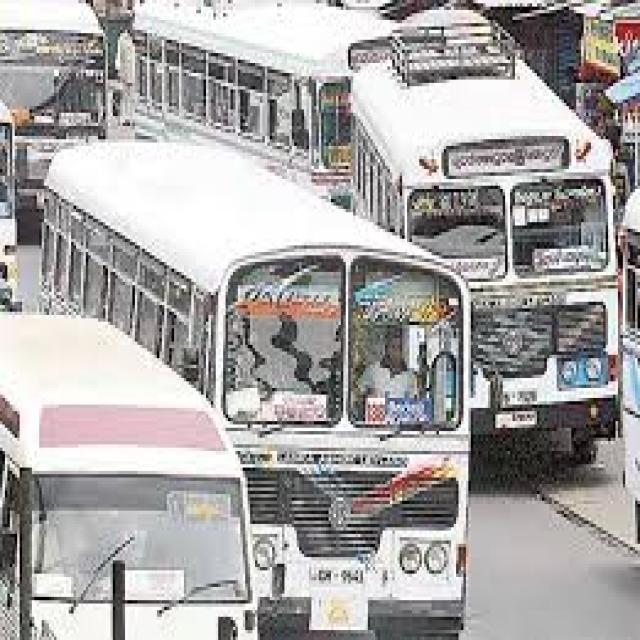bus: (42, 143, 468, 637), (353, 10, 615, 474), (0, 315, 255, 640), (0, 0, 103, 312), (135, 30, 348, 176)
